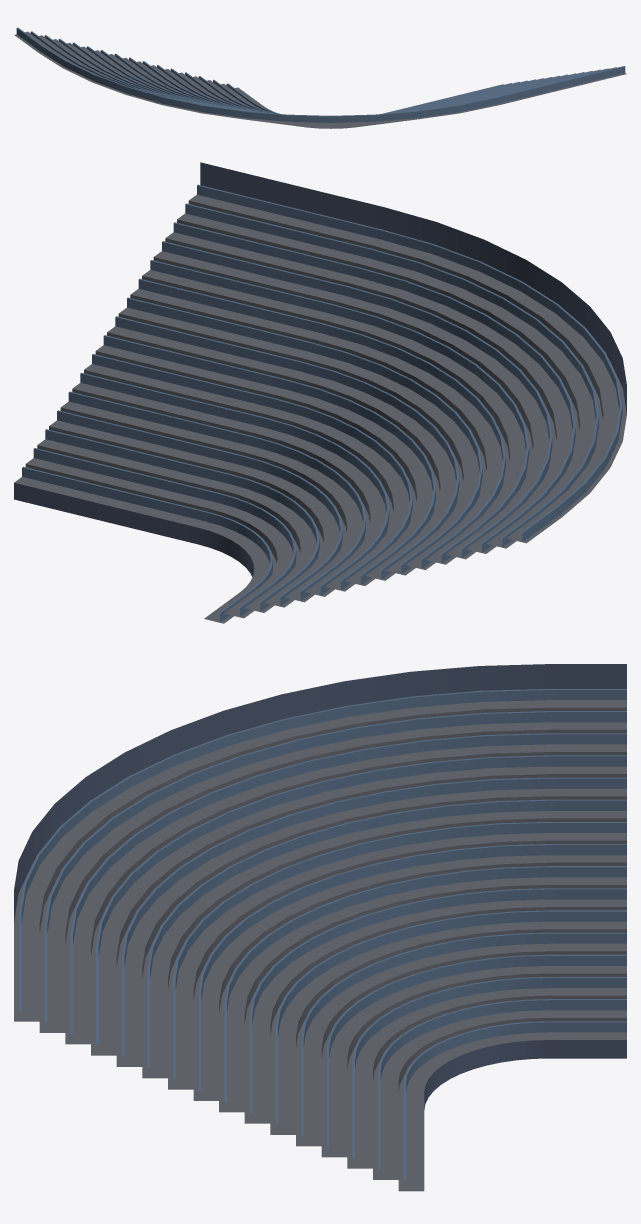
The model's file is SM_BowlLow2.glb.
The picture shows the model from 3 angles, top to bottom: view 1: azimuth 30°, elevation 25°; view 2: azimuth 150°, elevation 25°; view 3: azimuth 270°, elevation 25°; orthographic projection. The views are drawn at different scales.
Visible parts, largest first — view 1: SM_BowlLow2; view 2: SM_BowlLow2; view 3: SM_BowlLow2.
Boxes of the visible parts, x1=… form: SM_BowlLow2: x1=14, y1=27, x2=626, y2=128; SM_BowlLow2: x1=14, y1=162, x2=626, y2=623; SM_BowlLow2: x1=14, y1=664, x2=626, y2=1191.
Bounding box in the file's own units: 23.38 × 7.42 × 18.65.
